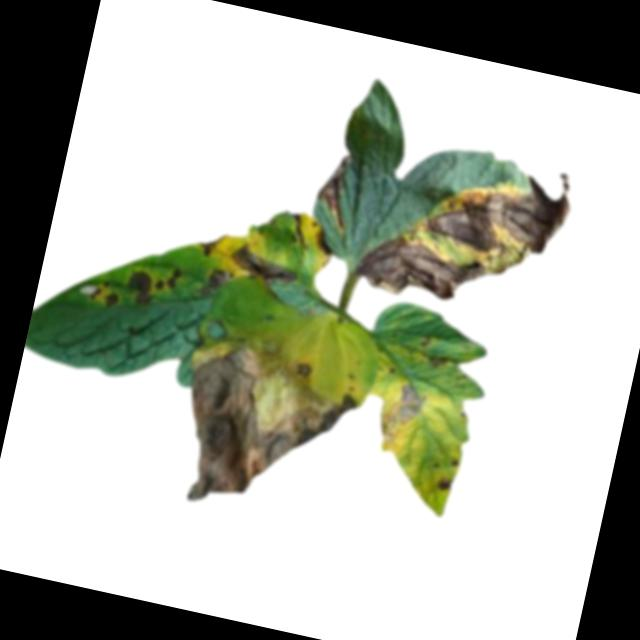Early_blight: (160, 327, 374, 534), (406, 140, 578, 264), (353, 222, 519, 320), (377, 376, 430, 452), (227, 241, 303, 291), (311, 150, 355, 225), (192, 263, 233, 301), (123, 267, 158, 306), (304, 219, 337, 258), (87, 280, 124, 308), (194, 229, 227, 260), (155, 264, 184, 295), (422, 348, 453, 370), (431, 471, 455, 495)
